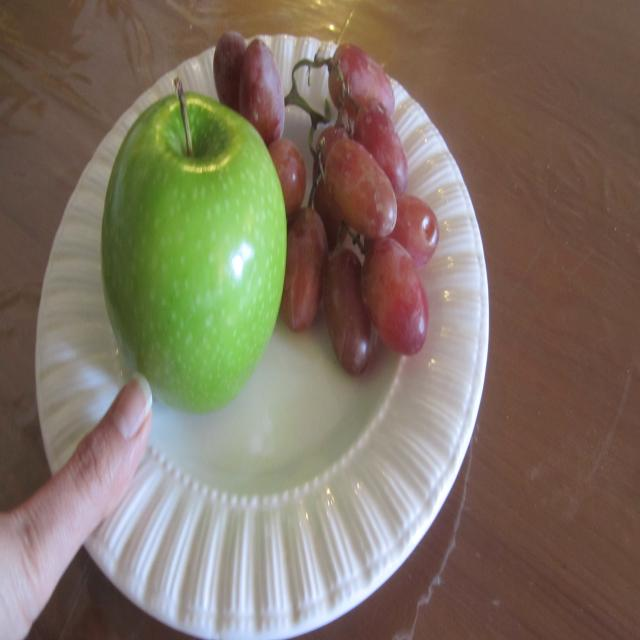apple: (99, 76, 291, 420)
grape: (294, 33, 447, 379)
